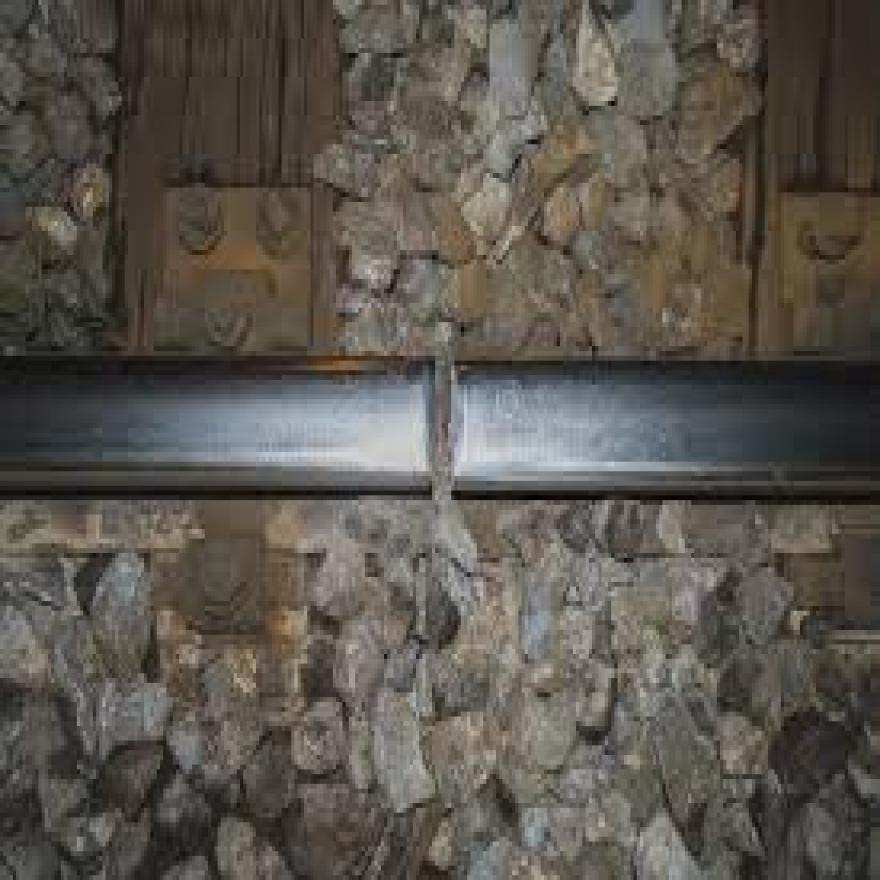railway-gap: (352, 265, 534, 579)
